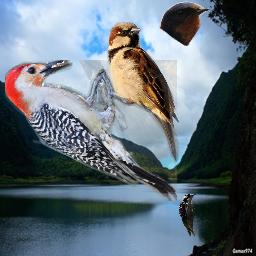Swallow: (106, 22, 179, 162), (159, 1, 211, 46)
Woodpecker: (5, 60, 177, 201), (177, 191, 198, 238)
